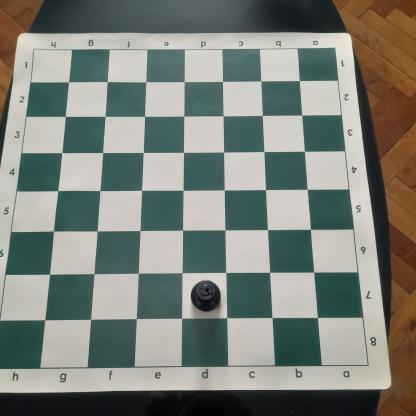black-king: (189, 278, 222, 312)
